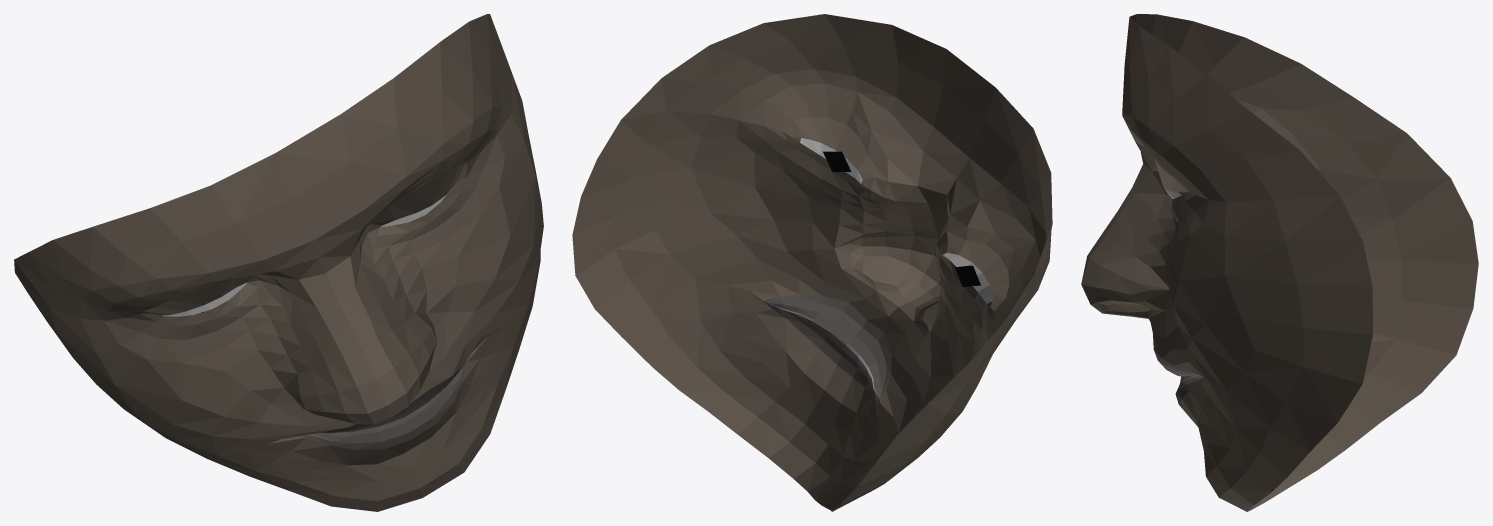
Rendered from frame_00276.obj.
3 views of the same model, side by side, from view 1: azimuth 30°, elevation 25°; view 2: azimuth 150°, elevation 25°; view 3: azimuth 270°, elevation 25° (orthographic). The views are drawn at different scales.
Parts seen in each view (by area): view 1: face_model_with_iris; view 2: face_model_with_iris; view 3: face_model_with_iris.
Part boxes in pixels (left/top/right/bottom): face_model_with_iris: left=14, top=14, right=543, bottom=511; face_model_with_iris: left=572, top=14, right=1052, bottom=511; face_model_with_iris: left=1081, top=14, right=1478, bottom=511.
Bounding box in the file's own units: 0.5657 × 0.5384 × 0.4187.
